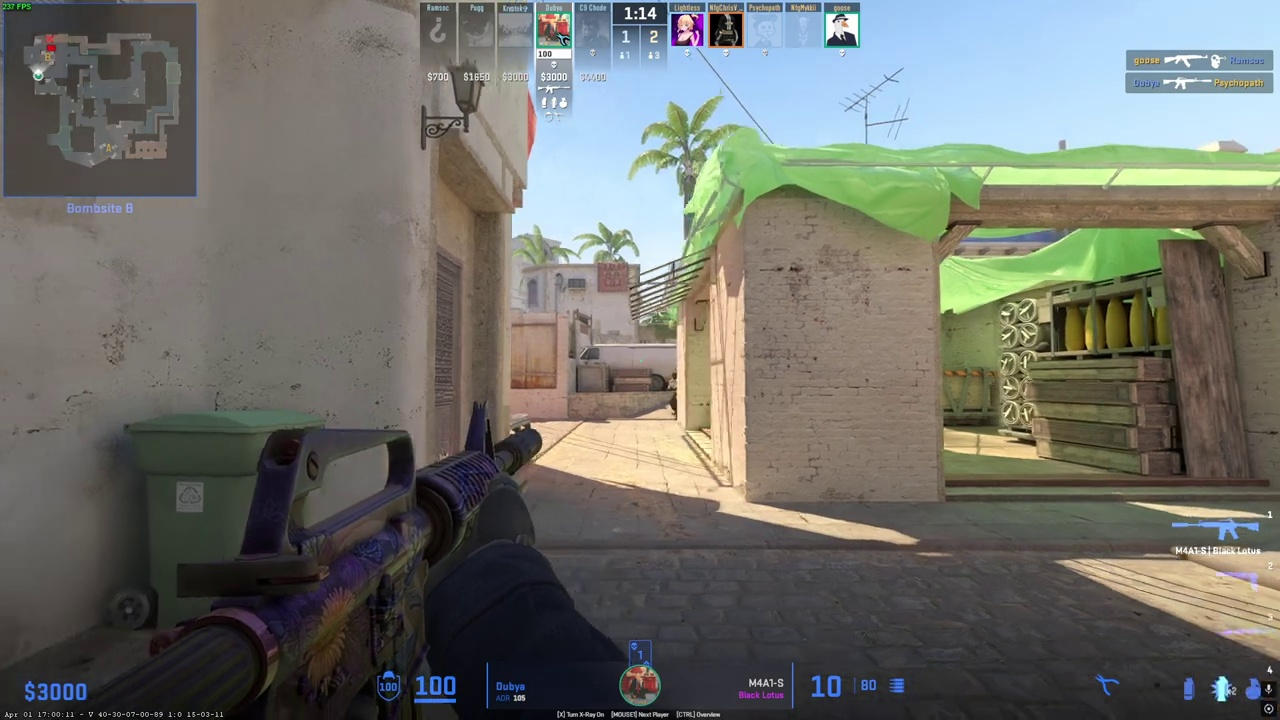Terrorist: (668, 372, 678, 420)
